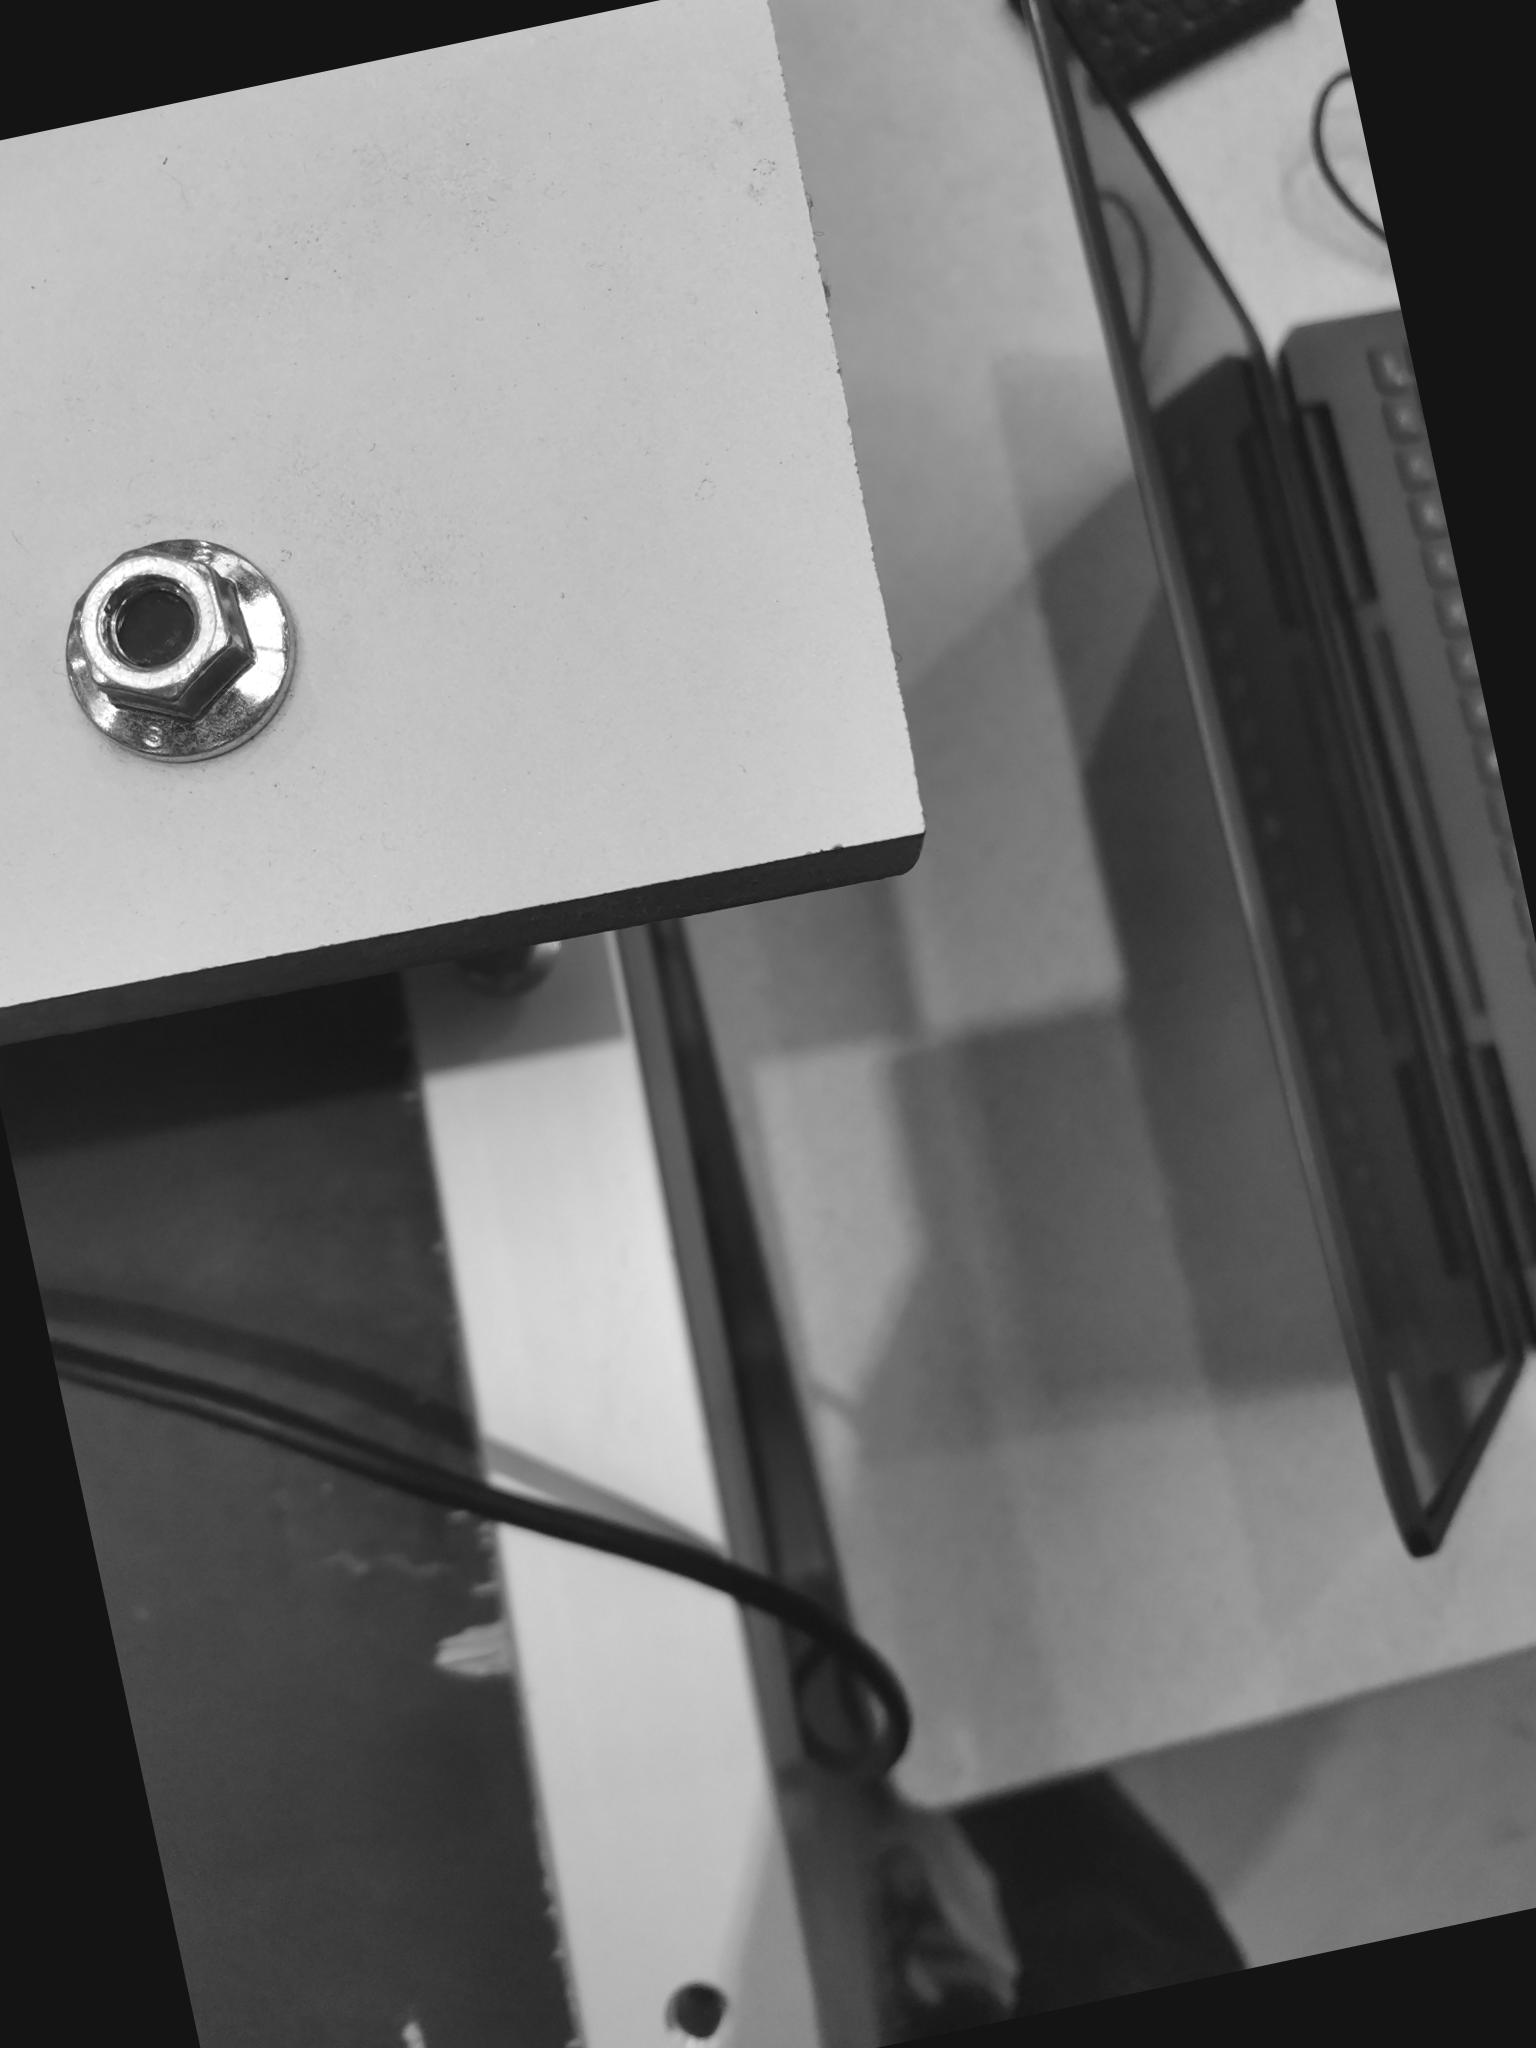hexagonal: (29, 506, 339, 798)
